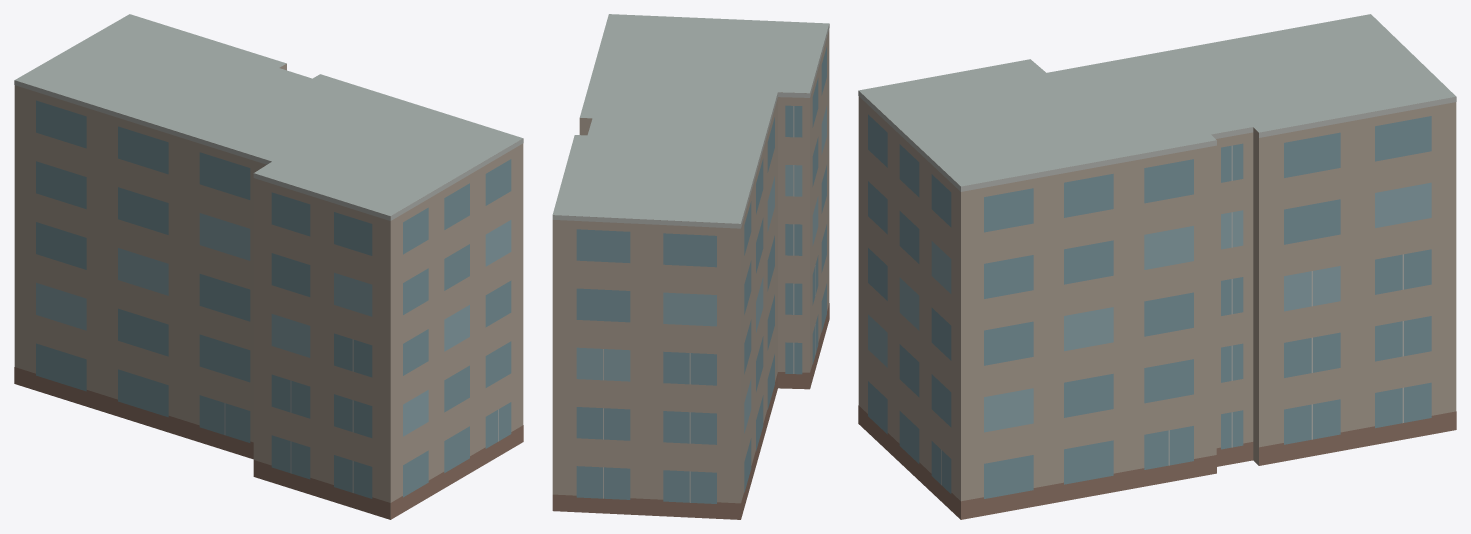
Rendered from survey-upis-32681236.glb.
3 views of the same model, side by side, from view 1: azimuth 30°, elevation 25°; view 2: azimuth 150°, elevation 25°; view 3: azimuth 270°, elevation 25° (orthographic). The views are drawn at different scales.
Visible parts, largest first — view 1: survey-upis-32681236.tmp; view 2: survey-upis-32681236.tmp; view 3: survey-upis-32681236.tmp.
Part boxes in pixels (box(x1,y1,x2,y2)): survey-upis-32681236.tmp: box(14, 14, 523, 519); survey-upis-32681236.tmp: box(552, 14, 829, 519); survey-upis-32681236.tmp: box(858, 14, 1456, 519).
Size of the model in its own units: 16.86 by 15.18 by 24.68.
